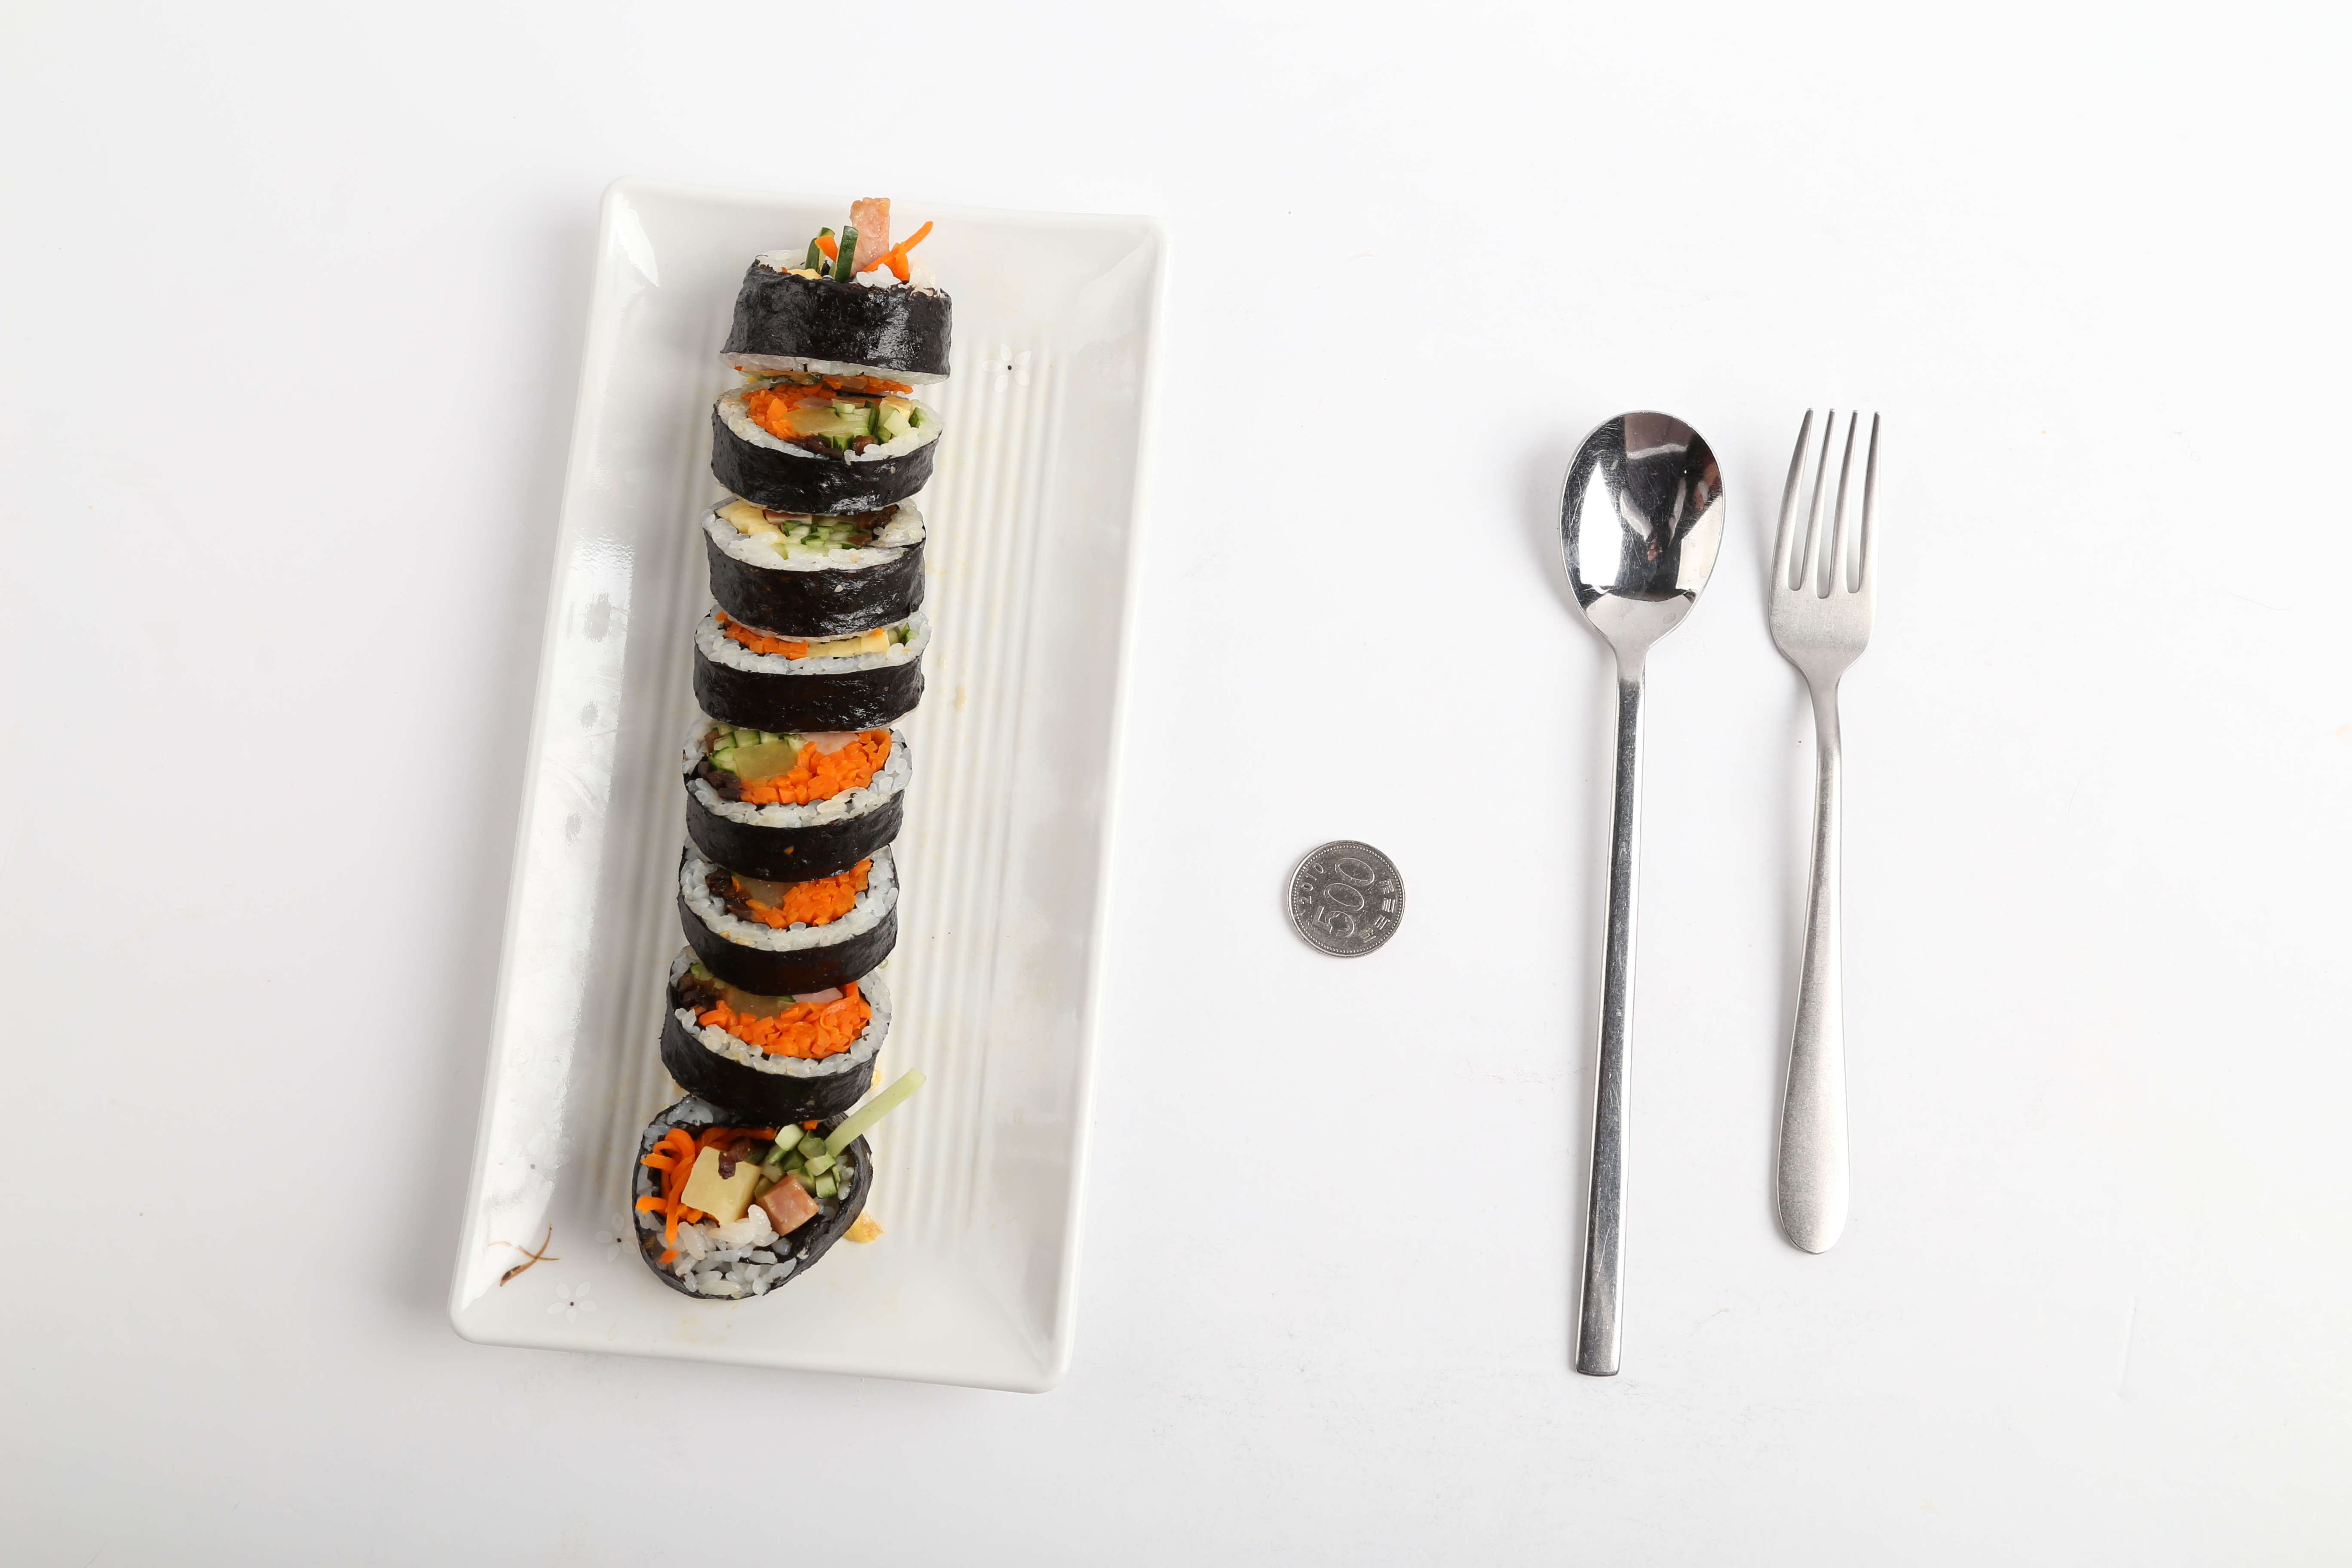dish: (443, 175, 1164, 1395)
ref_coin: (1274, 836, 1409, 961)
ref_fork: (1760, 402, 1881, 724)
ref_spoon: (1554, 404, 1729, 710)
김밥: (632, 254, 957, 1304)
